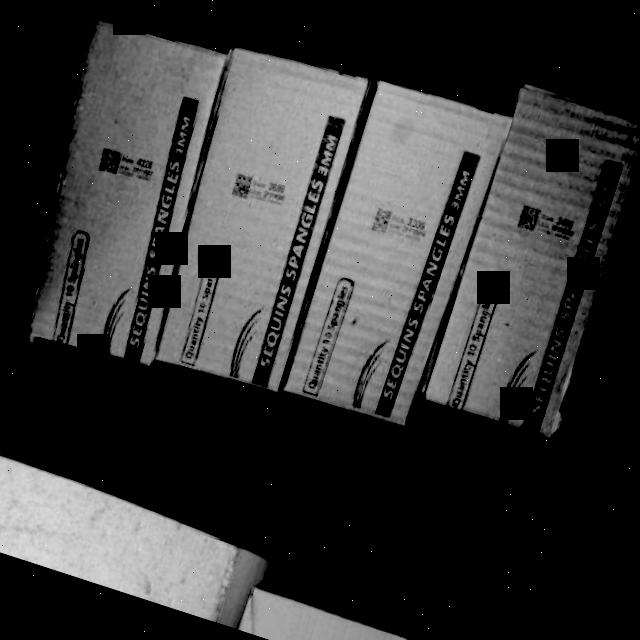box: (137, 44, 378, 397), (7, 21, 244, 363), (280, 79, 508, 429), (424, 75, 640, 440)
